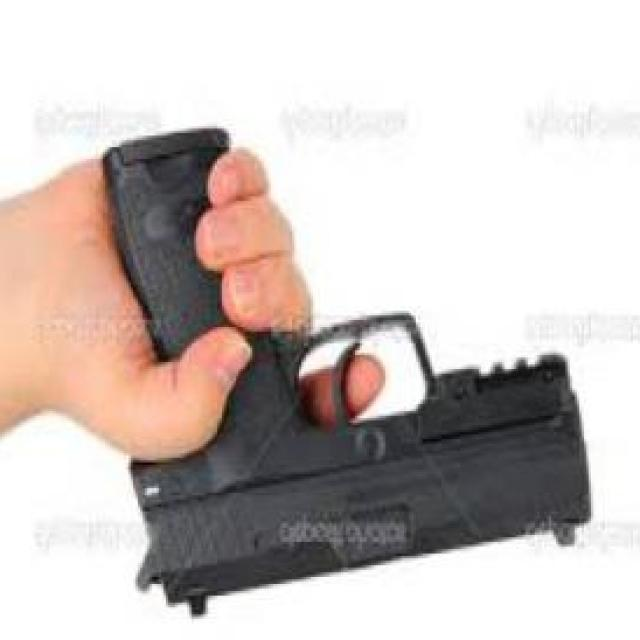pistol: (103, 144, 594, 619)
